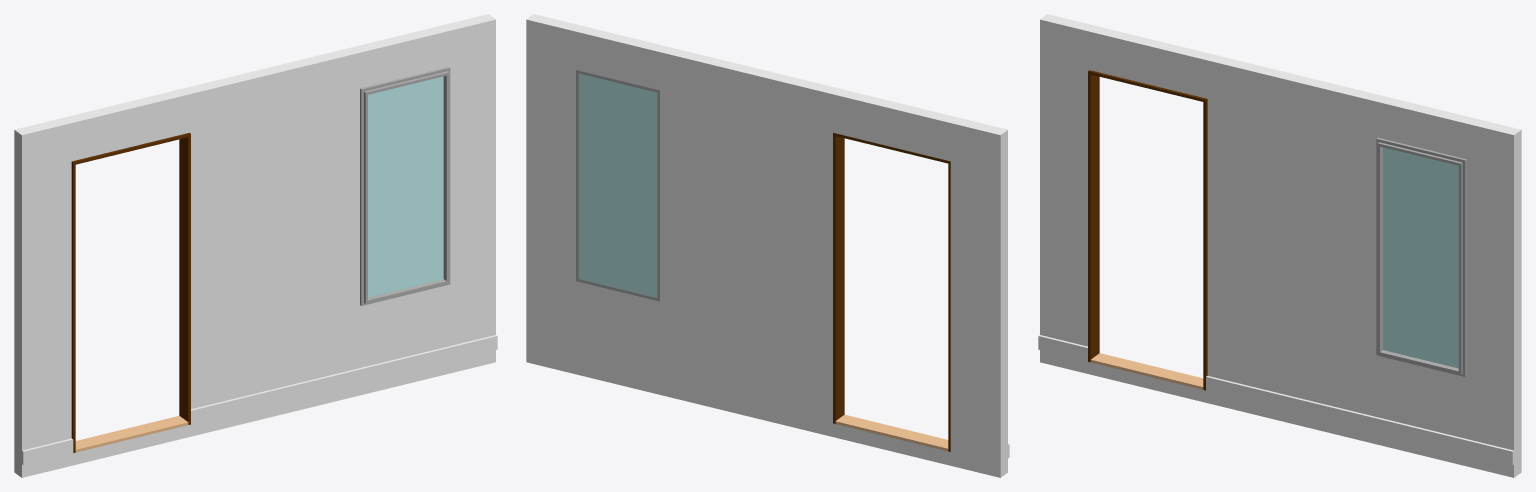
The model's file is wall53.obj.
3 renders of one model, left to right at view 1: azimuth 30°, elevation 25°; view 2: azimuth 150°, elevation 25°; view 3: azimuth 330°, elevation 25°, orthographic.
Size of the model in its own units: 18.1 by 12.5 by 0.7.
Materials: 1 (1 with a texture image).
